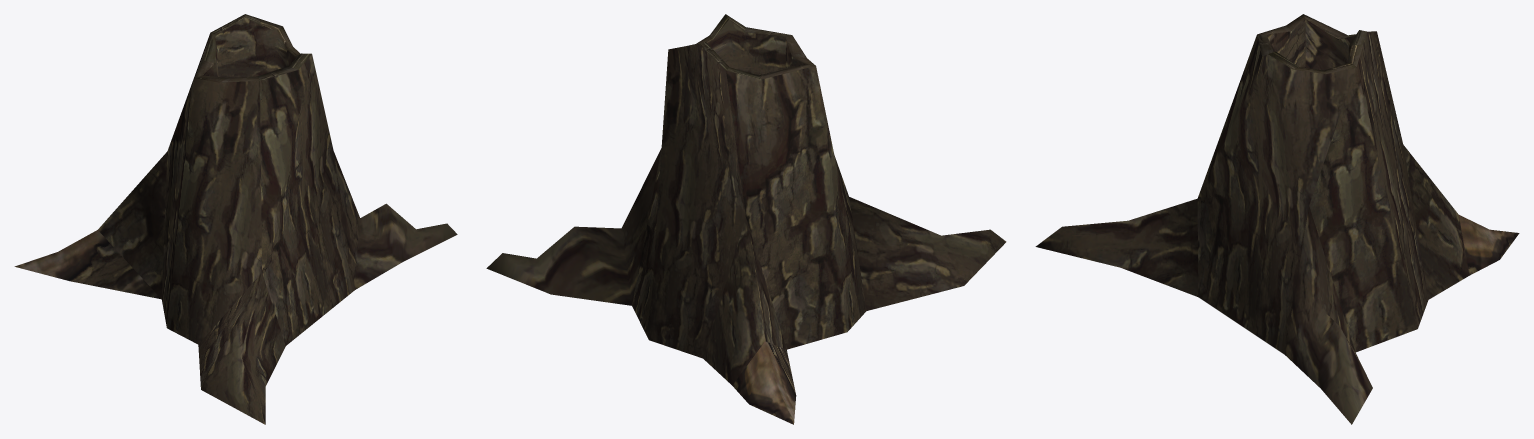
File: C_shu008.fbx
3 views of the same model, side by side, from view 1: azimuth 30°, elevation 25°; view 2: azimuth 150°, elevation 25°; view 3: azimuth 270°, elevation 25° (orthographic). The views are drawn at different scales.
Visible parts, largest first — view 1: C_shu008; view 2: C_shu008; view 3: C_shu008.
Part boxes in pixels (<box>): C_shu008: <box>14,14,457,424</box>; C_shu008: <box>486,14,1006,424</box>; C_shu008: <box>1035,14,1519,424</box>.
Size of the model in its own units: 540 by 375 by 576.
